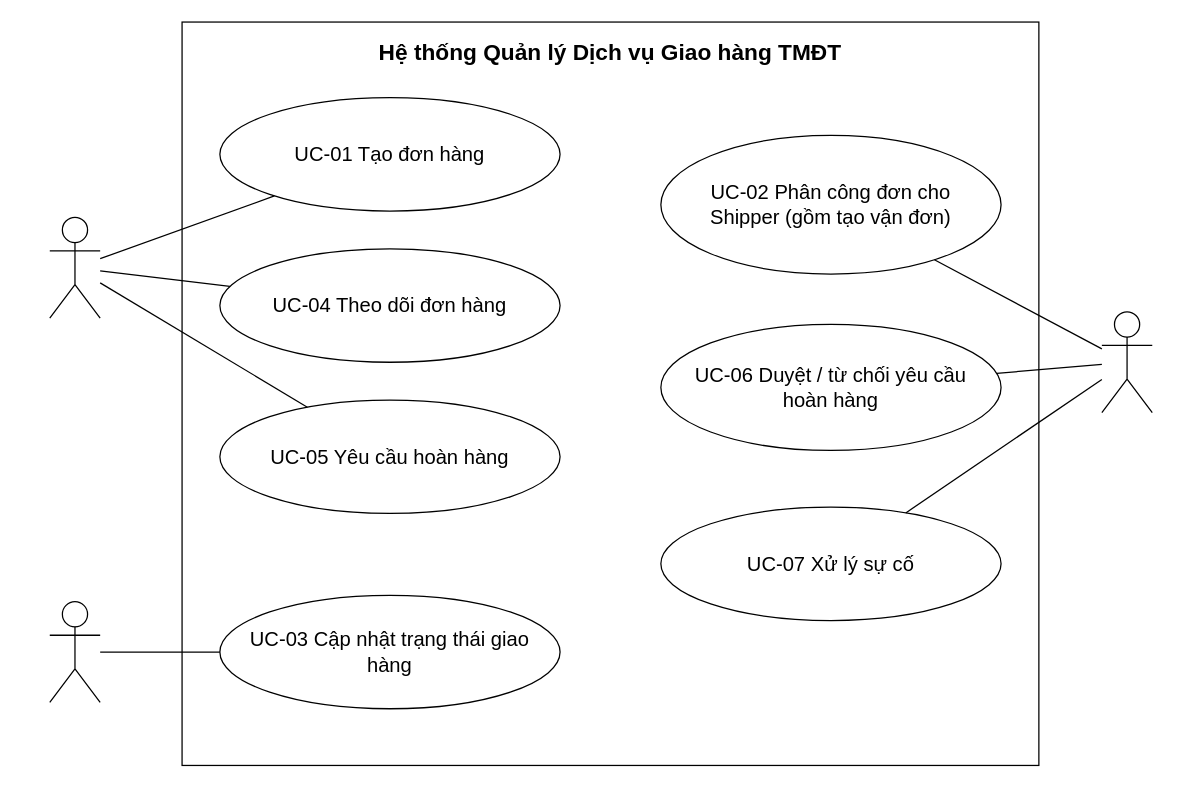
This 1183x788 diagram has some shape labels left out. The shapes that lost their labels are listed below. From the top down, each one's centre as x and y in pixels, then its label:
At [74,267]: "Customer".
At [1126,362]: "Admin".
At [74,651]: "Shipper".
